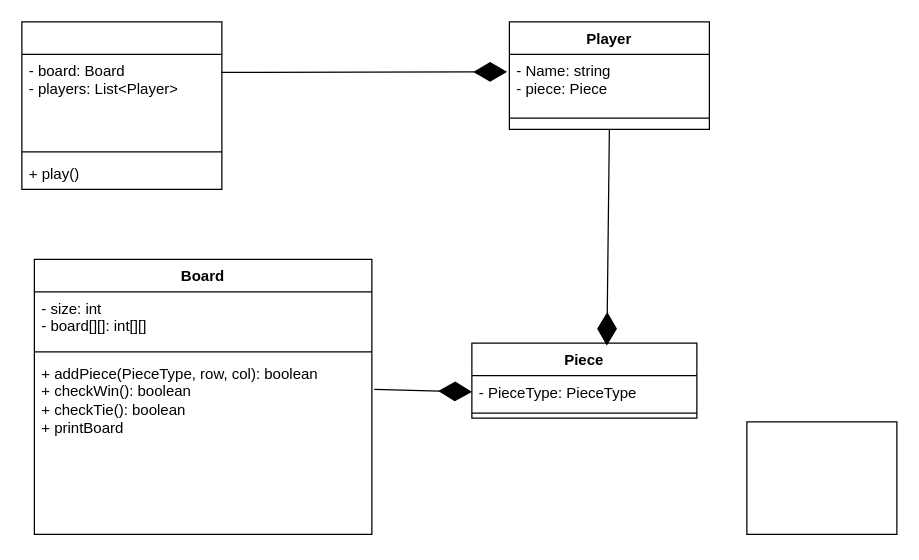
The diagram is 919 pixels wide and 560 high, and some of its shapes have lost their labels. Each missing label, with the box of its shape:
Game: (21, 21, 222, 189)
PieceType: Enum X O: (746, 421, 897, 534)
